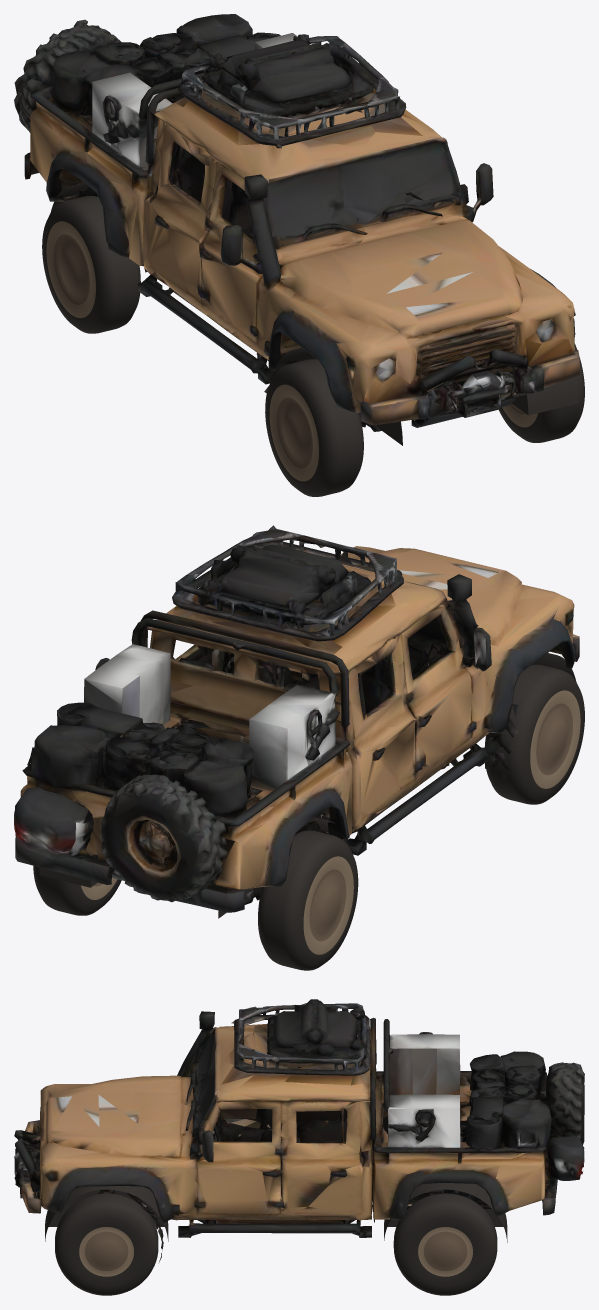
File: VEH_M_ExpeditionRig_Drive.glb
3 views of the same model, one above another, from view 1: azimuth 30°, elevation 25°; view 2: azimuth 150°, elevation 25°; view 3: azimuth 270°, elevation 25° (orthographic). The views are drawn at different scales.
Parts seen in each view (by area): view 1: VEH_M_ExpeditionRig, Wheel_FR, Wheel_RR, Wheel_FL, Liner_Wheel_FL, Liner_Wheel_FR; view 2: VEH_M_ExpeditionRig, Wheel_RR, Wheel_FR, Wheel_RL; view 3: VEH_M_ExpeditionRig, Wheel_RL, Wheel_FL, Liner_Wheel_FL, Liner_Wheel_RL.
Part boxes in pixels (x1,y1,x2,y2): VEH_M_ExpeditionRig: [14, 14, 579, 431]; Wheel_FR: [265, 359, 363, 496]; Wheel_RR: [42, 196, 140, 333]; Wheel_FL: [499, 343, 584, 442]; Liner_Wheel_FL: [511, 376, 578, 415]; Liner_Wheel_FR: [275, 347, 402, 445]; VEH_M_ExpeditionRig: [14, 525, 579, 912]; Wheel_RR: [258, 830, 358, 970]; Wheel_FR: [484, 664, 584, 804]; Wheel_RL: [33, 865, 121, 915]; VEH_M_ExpeditionRig: [14, 999, 584, 1263]; Wheel_RL: [393, 1193, 497, 1295]; Wheel_FL: [55, 1193, 158, 1295]; Liner_Wheel_FL: [45, 1186, 168, 1241]; Liner_Wheel_RL: [384, 1182, 507, 1242].
Size of the model in its own units: 2.04 by 2.24 by 4.91.
Materials: 4 (1 with a texture image).
